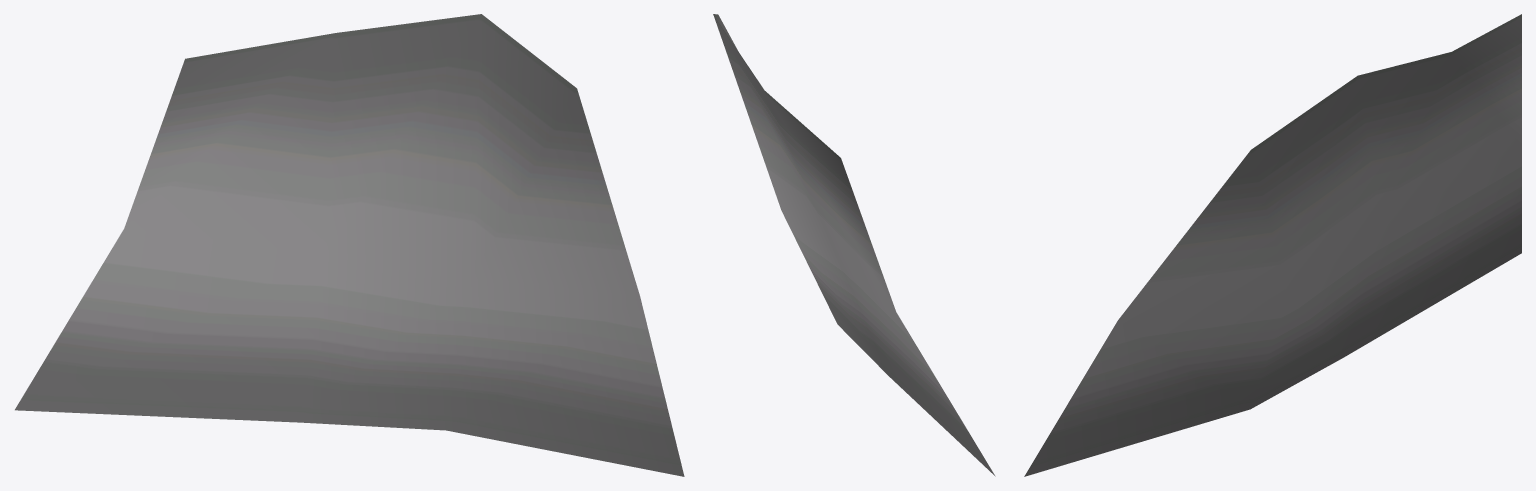
File: cobweb5.fbx
3 renders of one model, left to right at view 1: azimuth 30°, elevation 25°; view 2: azimuth 150°, elevation 25°; view 3: azimuth 270°, elevation 25°, orthographic. The views are drawn at different scales.
Visible parts, largest first — view 1: cobweb5; view 2: cobweb5; view 3: cobweb5.
Part boxes in pixels (x1,y1,x2,y2): cobweb5: [15, 14, 684, 476]; cobweb5: [713, 14, 995, 476]; cobweb5: [1024, 14, 1521, 476].
Size of the model in its own units: 2.39 by 1.88 by 2.24.
